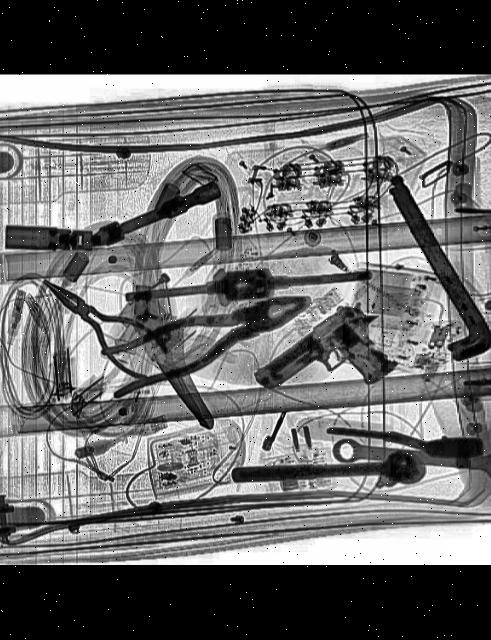Gun: (250, 296, 416, 436)
Pliers: (92, 274, 326, 403), (26, 264, 178, 386)
Wrench: (329, 430, 491, 484)
